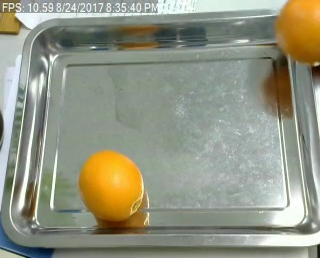Orange: (78, 150, 144, 219)
